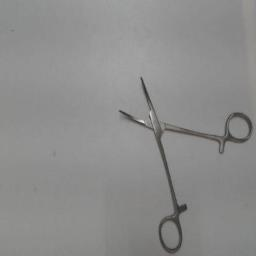Crile Artery Forceps: (115, 69, 255, 255)
